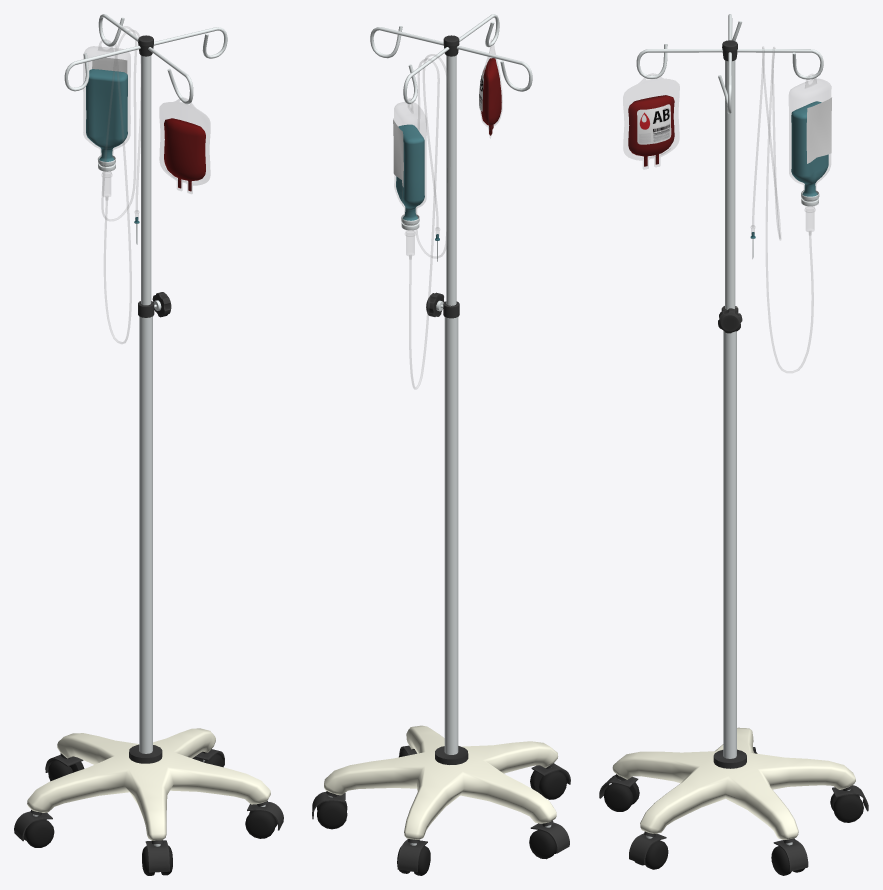
The model's file is IVPole.fbx.
3 renders of one model, left to right at view 1: azimuth 30°, elevation 25°; view 2: azimuth 150°, elevation 25°; view 3: azimuth 270°, elevation 25°, orthographic.
Visible parts, largest first — view 1: IVPole; view 2: IVPole; view 3: IVPole.
Boxes of the visible parts, x1,y1,x2,y2 form: IVPole: [14, 14, 283, 875]; IVPole: [312, 14, 570, 875]; IVPole: [599, 14, 868, 875].
Bounding box in the file's own units: 50.01 × 163 × 50.74.
